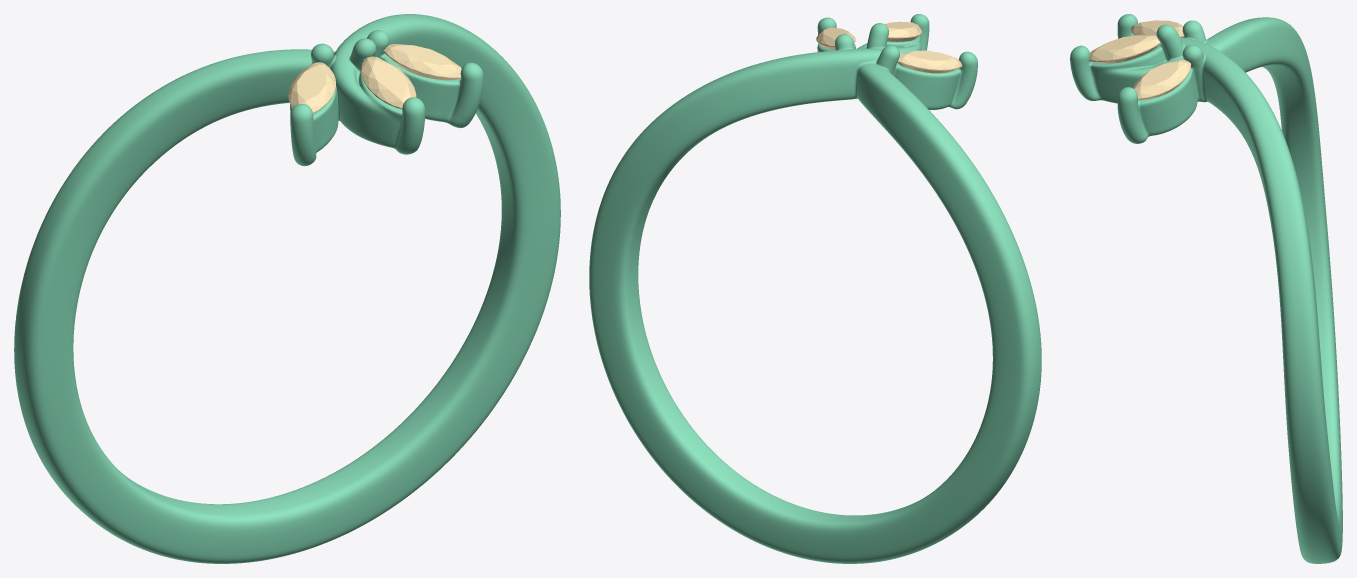
The picture shows the model from 3 angles, left to right: view 1: azimuth 30°, elevation 25°; view 2: azimuth 150°, elevation 25°; view 3: azimuth 270°, elevation 25°; orthographic projection. The views are drawn at different scales.
Parts seen in each view (by area): view 1: Metal02, Diamond_Round, Diamond_Round.002, Diamond_Round.001; view 2: Metal02, Diamond_Round.001, Diamond_Round; view 3: Metal02, Diamond_Round.002, Diamond_Round, Diamond_Round.001.
Part boxes in pixels (box(x1,y1,x2,y2)): Metal02: box(14, 14, 560, 563); Diamond_Round: box(361, 56, 416, 109); Diamond_Round.002: box(383, 44, 461, 80); Diamond_Round.001: box(288, 62, 335, 113); Metal02: box(589, 14, 1041, 563); Diamond_Round.001: box(897, 50, 962, 73); Diamond_Round: box(885, 21, 921, 41); Metal02: box(1070, 14, 1342, 563); Diamond_Round.002: box(1133, 59, 1190, 99); Diamond_Round: box(1088, 35, 1160, 63); Diamond_Round.001: box(1131, 20, 1184, 37).
Size of the model in its own units: 20.11 by 20.7 by 9.98.
